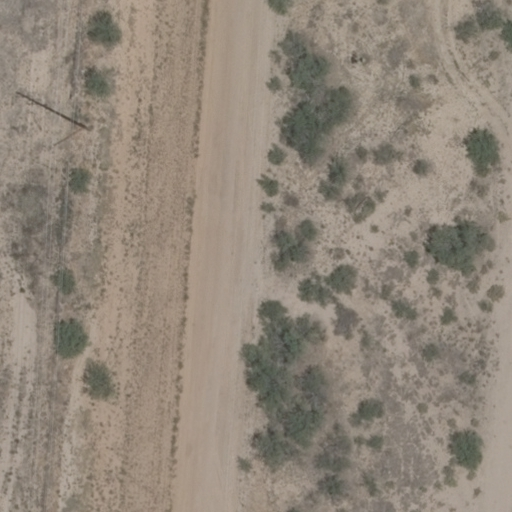DT: (47, 117, 97, 148)
